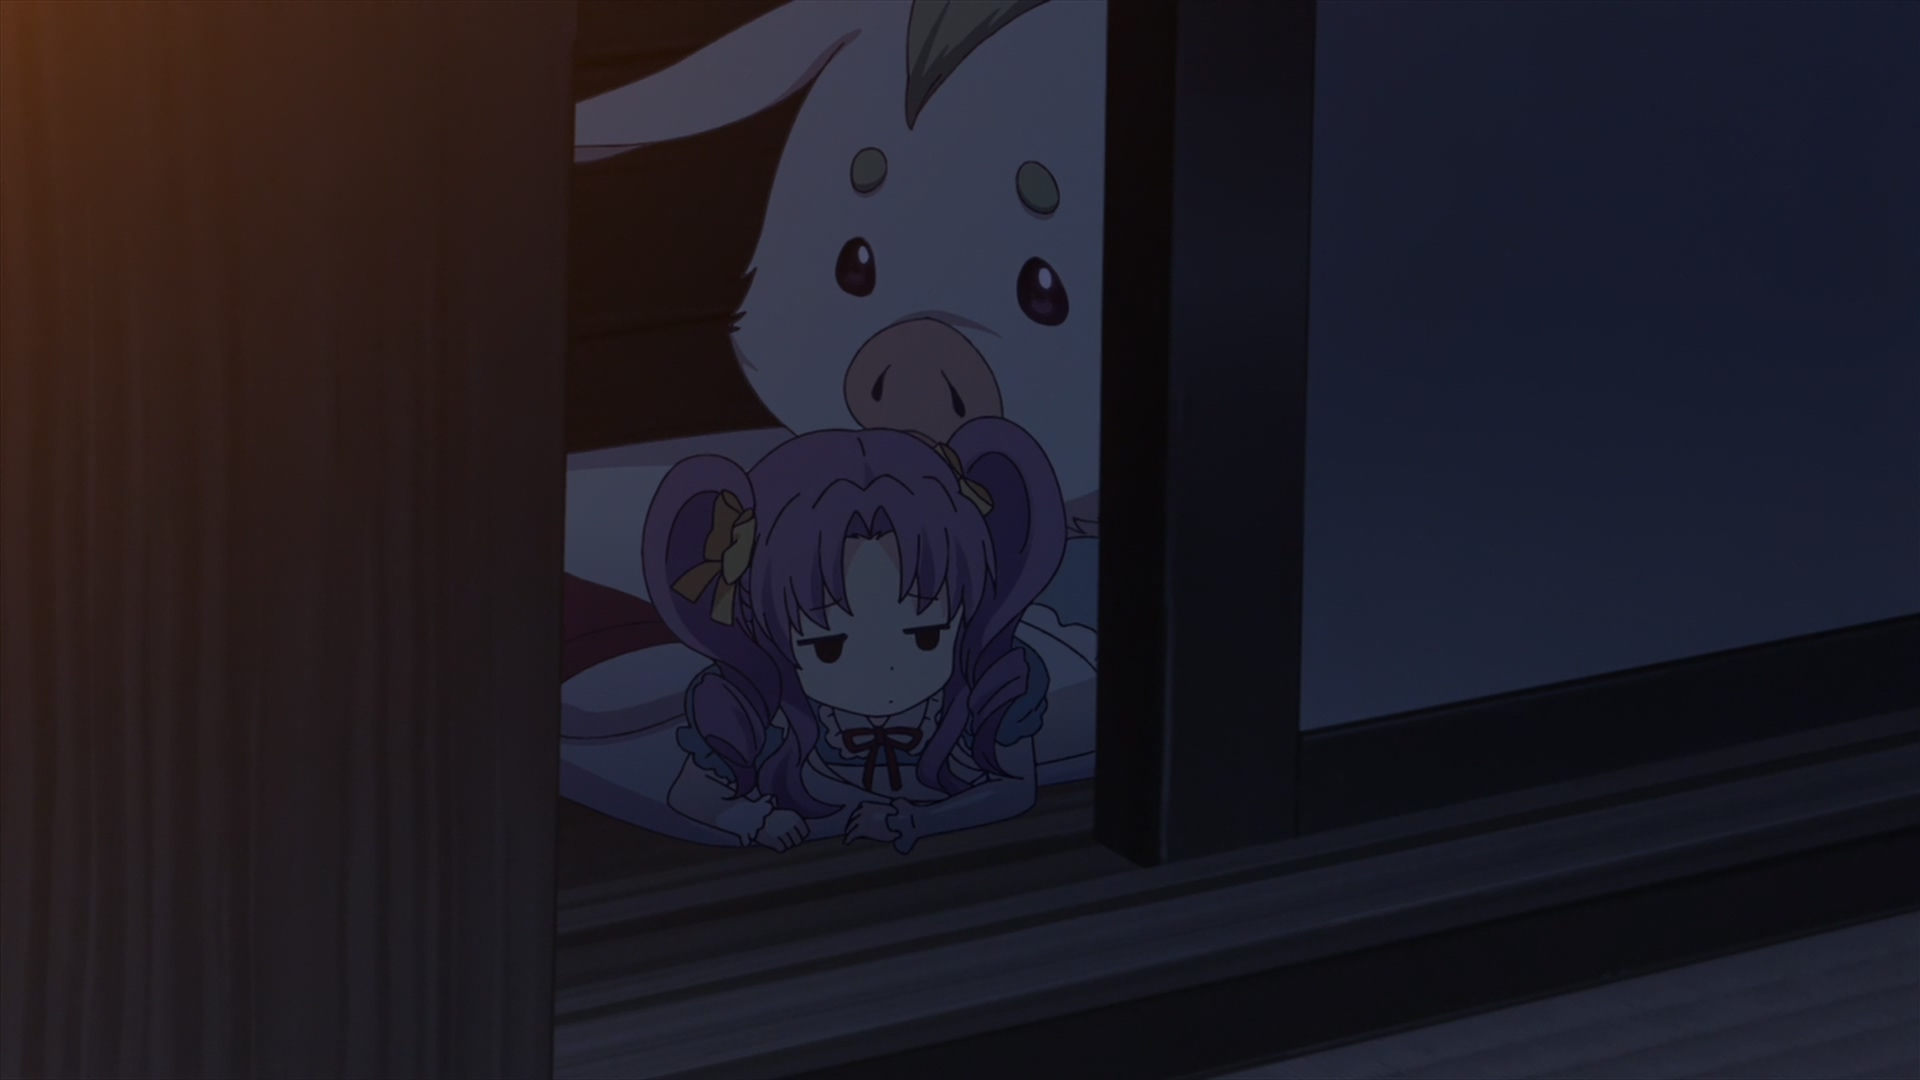瓜之介: (578, 1, 1101, 527)
阿菊: (642, 417, 1092, 856)
